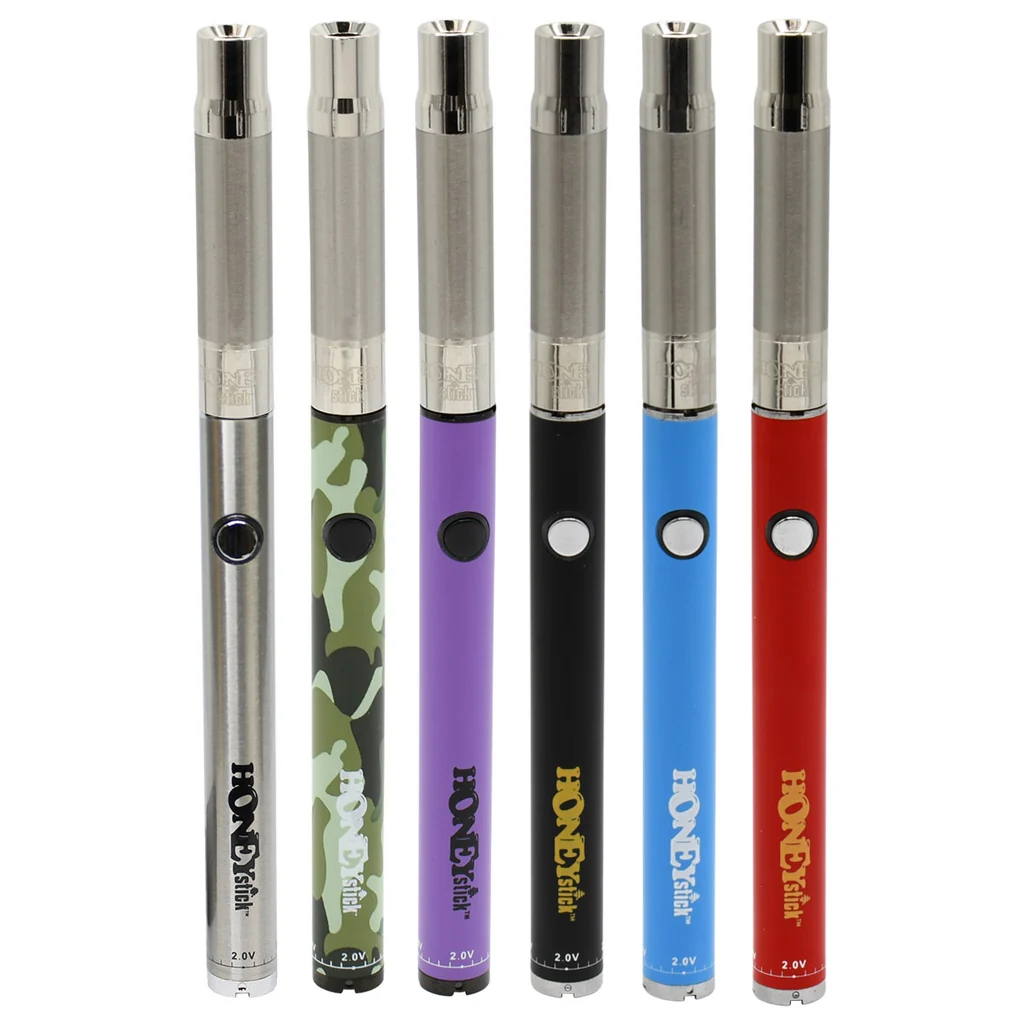weed_pen: (47, 24, 995, 1024)
